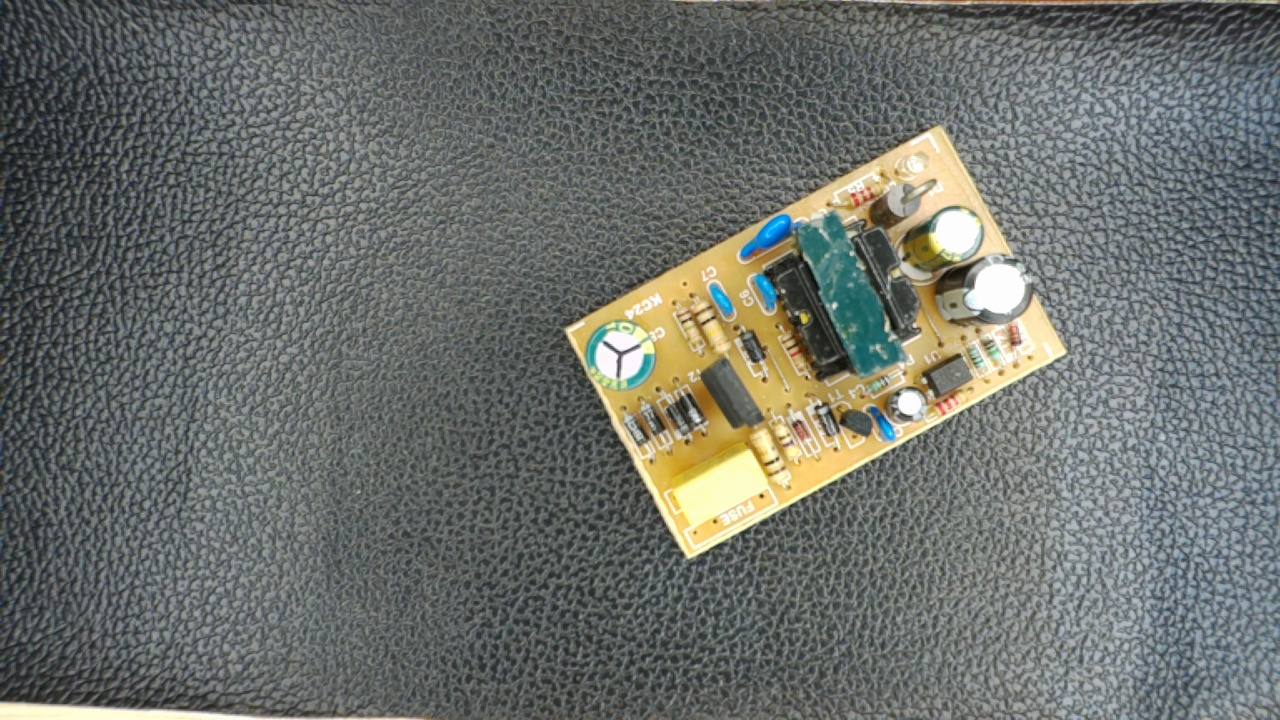hv_capacitor: (581, 320, 657, 392)
mov: (732, 215, 803, 263)
optocoupler: (915, 353, 980, 399)
